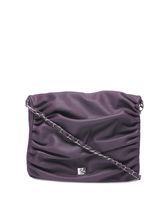bag: (17, 85, 147, 186)
